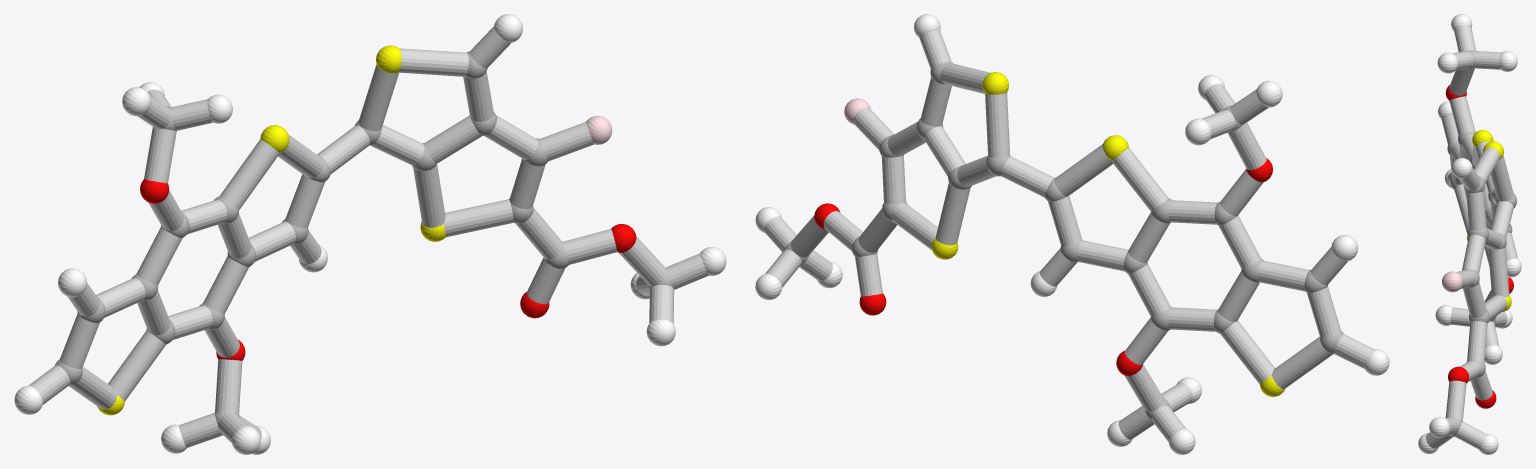
The model's file is Dimethoxy_Benzodithiophene_Phi_30_Theta_170_Methylcarbonyl_3_Fluoro_Thienothiophene.glb.
The picture shows the model from 3 angles, left to right: view 1: azimuth 30°, elevation 25°; view 2: azimuth 150°, elevation 25°; view 3: azimuth 270°, elevation 25°; orthographic projection. The views are drawn at different scales.
Visible parts, largest first — view 1: grp15205, grp8689, grp1, grp13395, grp7241; view 2: grp15205, grp8689, grp1, grp7241, grp13395; view 3: grp15205, grp8689, grp1, grp13395, grp7241, grp14843.
Part boxes in pixels (left/top/right/bottom): grp15205: left=28, top=26, right=708, bottom=447; grp8689: left=14, top=14, right=726, bottom=454; grp1: left=55, top=51, right=672, bottom=435; grp13395: left=140, top=179, right=636, bottom=360; grp7241: left=97, top=45, right=445, bottom=415; grp15205: left=764, top=30, right=1373, bottom=441; grp8689: left=755, top=14, right=1389, bottom=454; grp1: left=784, top=61, right=1343, bottom=420; grp7241: left=931, top=72, right=1284, bottom=396; grp13395: left=814, top=158, right=1272, bottom=375; grp15205: left=1425, top=25, right=1517, bottom=449; grp8689: left=1418, top=14, right=1521, bottom=454; grp1: left=1447, top=50, right=1516, bottom=436; grp13395: left=1445, top=85, right=1513, bottom=408; grp7241: left=1467, top=129, right=1511, bottom=311; grp14843: left=1442, top=271, right=1462, bottom=292.
Size of the model in its own units: 16.51 by 9.38 by 2.94.
